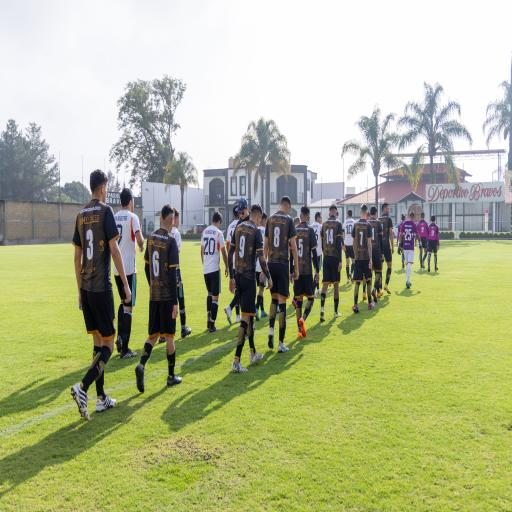shoe: (71, 384, 89, 420), (96, 395, 116, 412), (135, 363, 144, 393), (120, 348, 137, 358), (232, 361, 247, 372), (250, 352, 263, 364), (167, 375, 181, 386), (299, 318, 306, 337), (225, 306, 232, 324), (278, 341, 288, 352), (116, 336, 122, 353), (181, 328, 191, 338), (268, 329, 273, 348), (320, 307, 325, 322), (209, 325, 219, 332), (207, 312, 211, 329), (372, 290, 377, 303), (260, 310, 268, 318), (384, 285, 391, 294), (377, 290, 384, 298), (353, 304, 359, 312), (158, 337, 166, 343), (292, 299, 297, 308), (349, 272, 353, 283), (334, 312, 341, 318), (236, 315, 241, 323), (255, 310, 259, 320), (315, 289, 320, 297), (298, 332, 304, 338), (362, 293, 367, 300), (369, 302, 374, 309), (406, 281, 410, 288), (423, 261, 425, 269), (420, 261, 422, 269), (402, 260, 404, 268), (409, 282, 412, 287), (347, 279, 350, 284), (422, 262, 424, 269), (435, 267, 438, 271), (428, 267, 430, 272), (329, 283, 331, 287)
